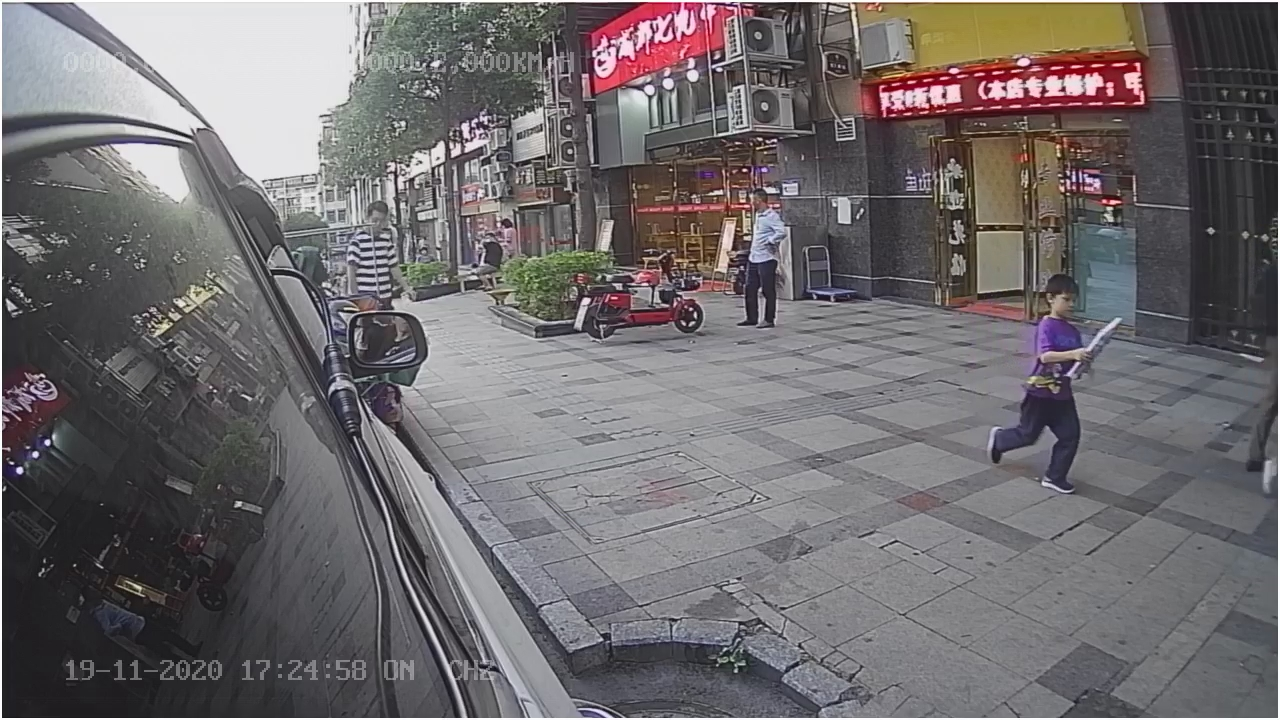person: (986, 271, 1091, 496)
